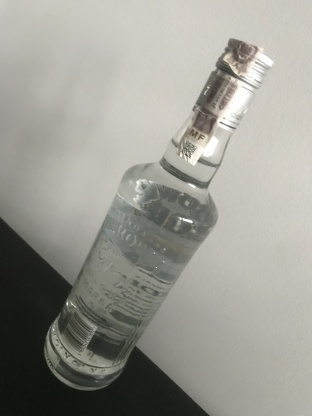nakretka: (190, 34, 275, 134)
